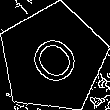O_SE: (20, 25, 86, 91)
